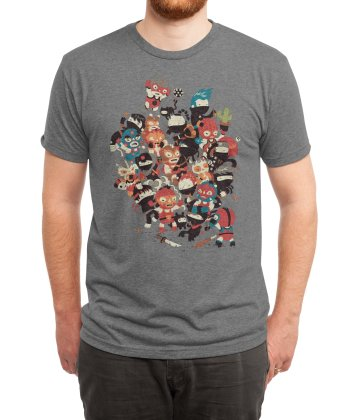design: (106, 77, 242, 254)
